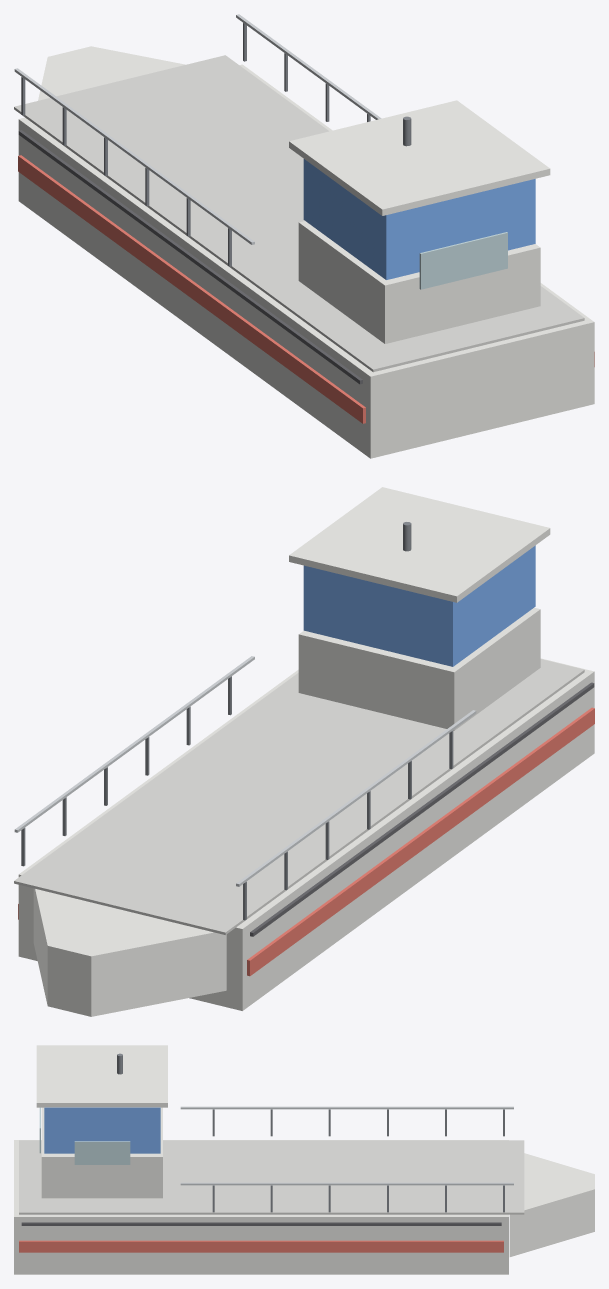
Rendered from Ferry.fbx.
The picture shows the model from 3 angles, top to bottom: view 1: azimuth 30°, elevation 25°; view 2: azimuth 150°, elevation 25°; view 3: azimuth 270°, elevation 25°; orthographic projection. The views are drawn at different scales.
Visible parts, largest first — view 1: LOD0; view 2: LOD0; view 3: LOD0.
Part boxes in pixels (left/top/right/bottom): LOD0: left=14, top=14, right=594, bottom=458; LOD0: left=14, top=487, right=594, bottom=1016; LOD0: left=14, top=1045, right=594, bottom=1274.
Size of what is drawn, in the model's own units: 377 by 396 by 1150.
